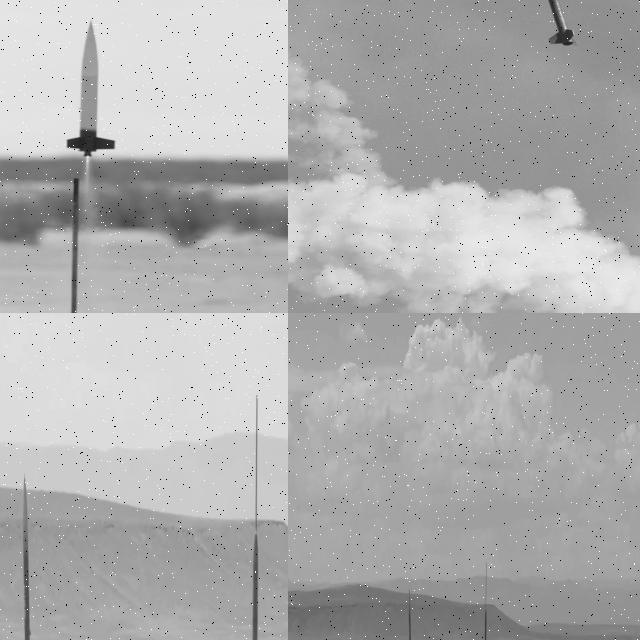Rocket: (66, 20, 116, 157), (18, 474, 37, 640), (534, 0, 579, 47), (247, 532, 263, 640), (408, 588, 412, 640), (483, 608, 487, 640)
